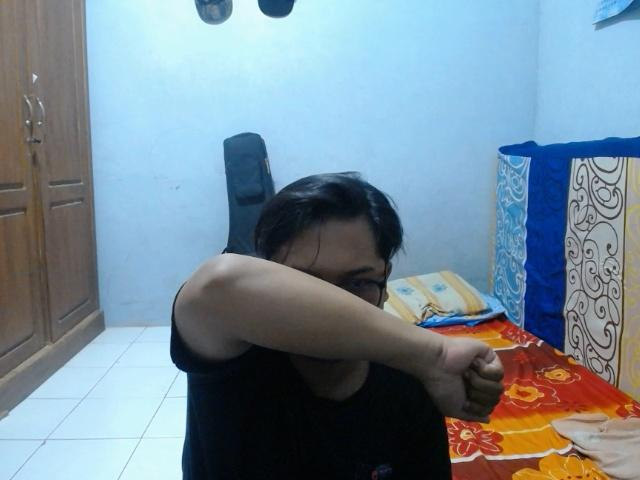Grab: (427, 324, 507, 431)
